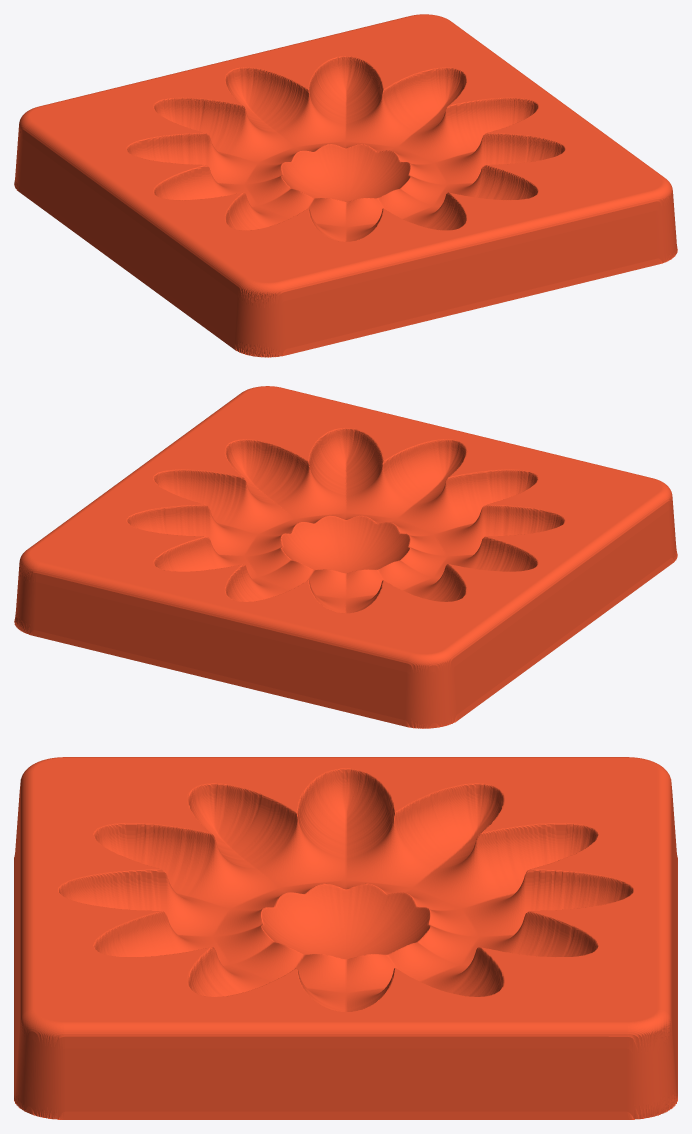
File: mold.glb
3 renders of one model, top to bottom at view 1: azimuth 30°, elevation 25°; view 2: azimuth 150°, elevation 25°; view 3: azimuth 270°, elevation 25°, orthographic. The views are drawn at different scales.
Parts seen in each view (by area): view 1: geometry_0; view 2: geometry_0; view 3: geometry_0.
Boxes of the visible parts, box(x1,y1,x2,y2) form: geometry_0: box(14, 14, 677, 357); geometry_0: box(14, 386, 677, 728); geometry_0: box(14, 757, 677, 1119).
Bounding box in the file's own units: 0.1178 × 0.0175 × 0.1178.
